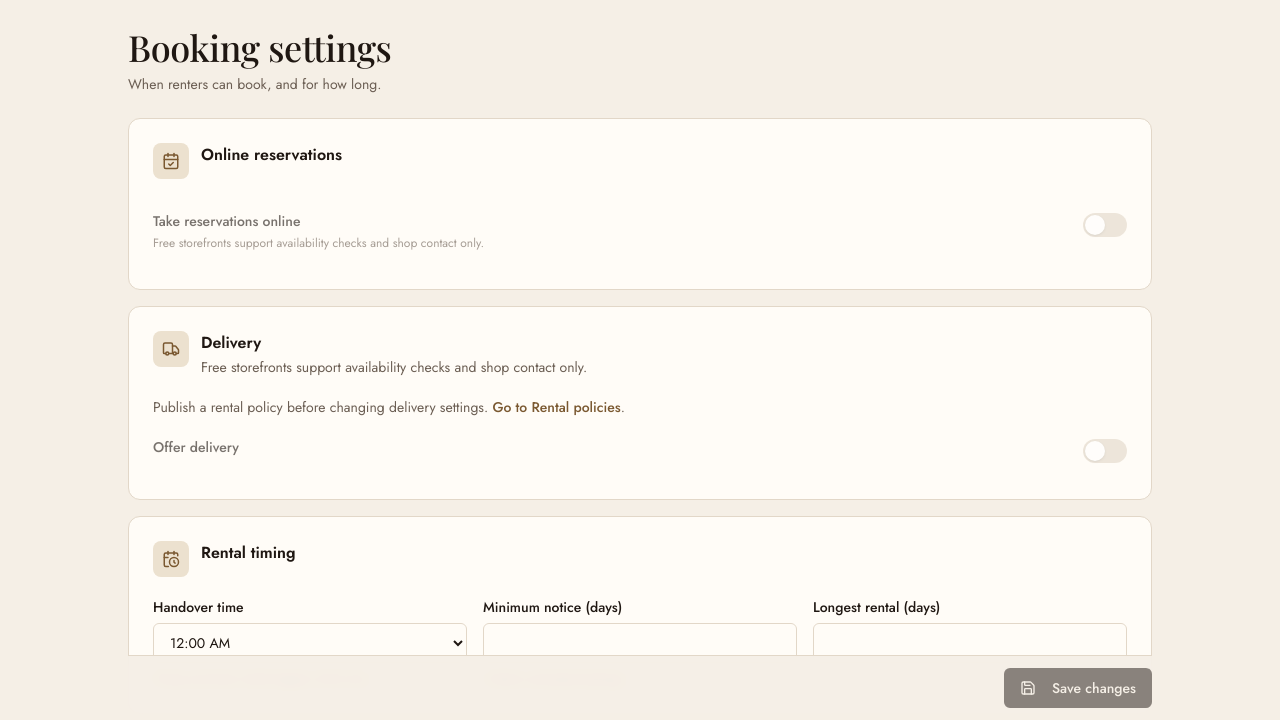
Scenario: Free storefront feature gates › opens upgrade prompts for online reservations and fittings
The image size is (1280, 720).
Click the switch labelled "Take reservations online". click: (227, 221)
box: top-left (153, 199), bottom-right (1127, 265)
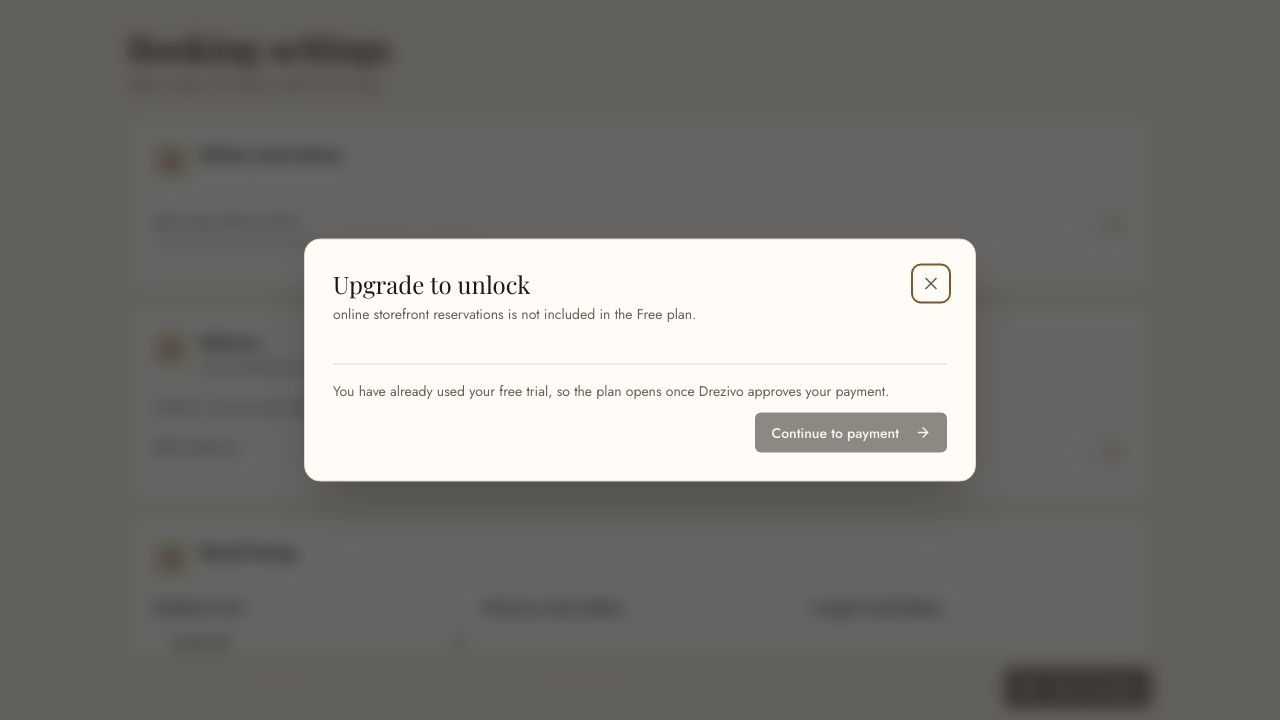
expect the heading "Upgrade to unlock" is shown: met, box top-left (333, 268), bottom-right (530, 300)
Click the button named "Close". click: (931, 284)
box: top-left (915, 268), bottom-right (947, 300)
(page scrolled)
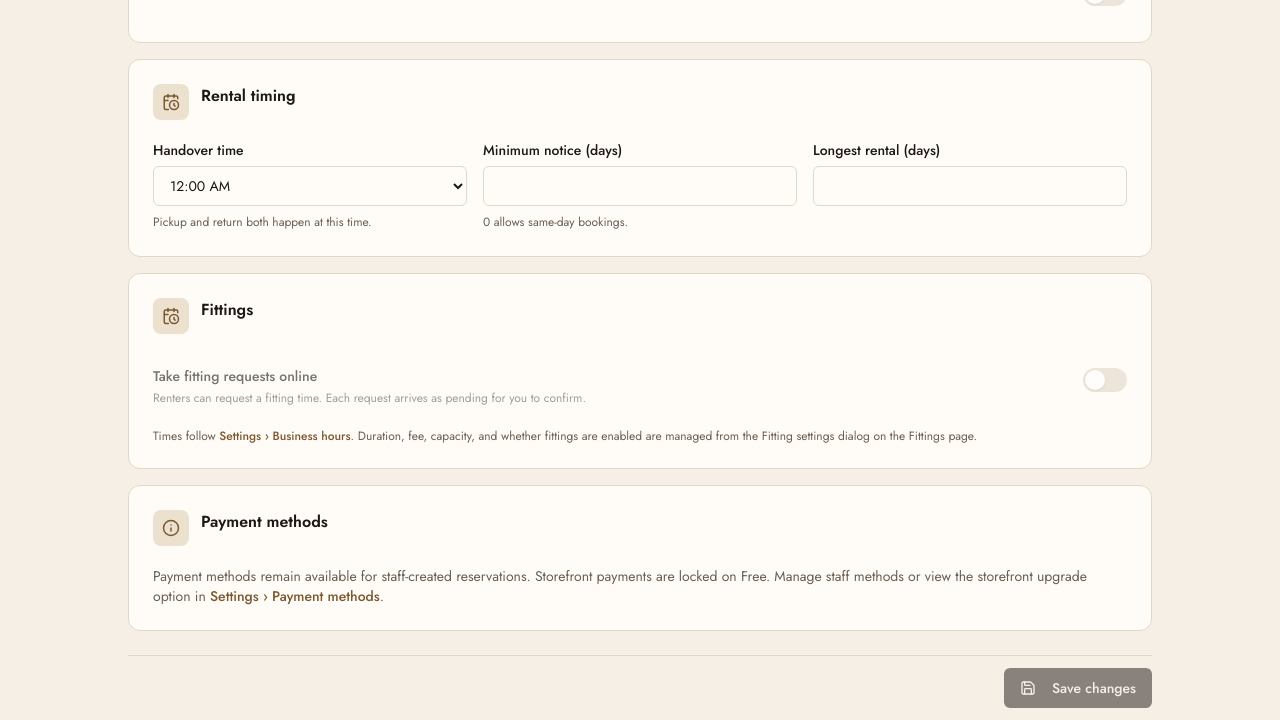
Click the switch labelled "Take fitting requests online". click: (235, 376)
box: top-left (153, 354), bottom-right (1127, 420)
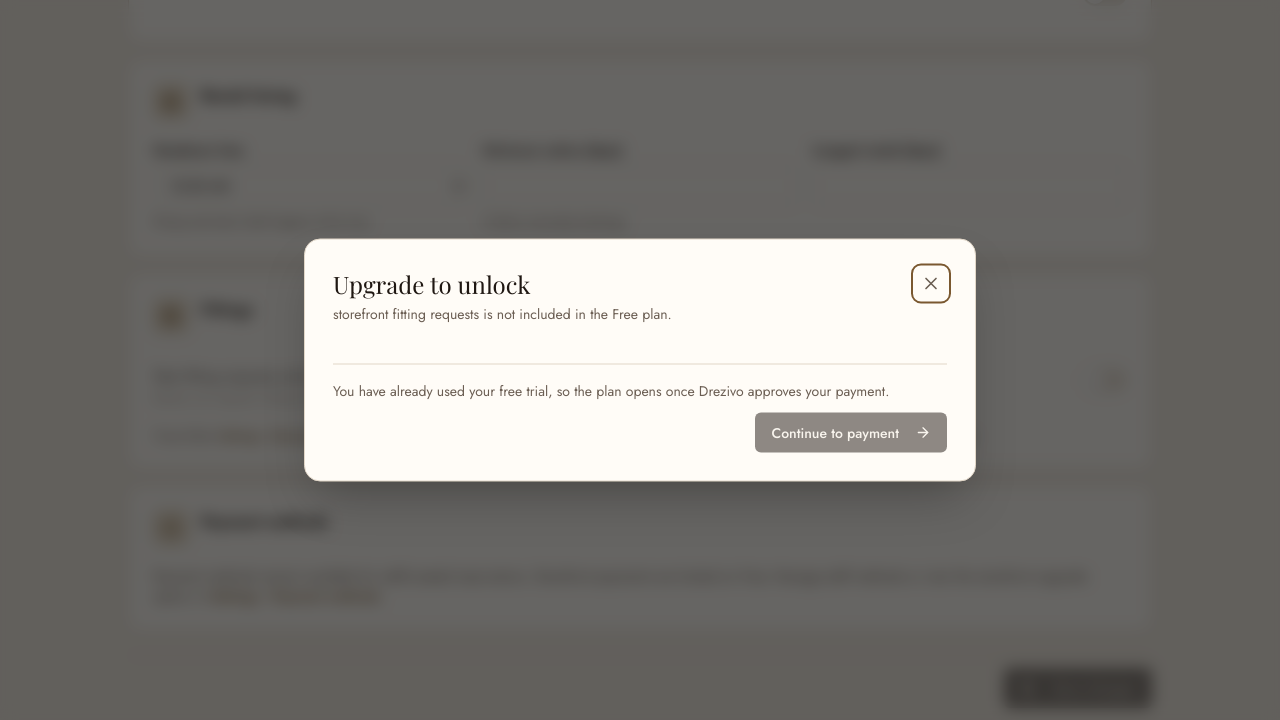
expect the heading "Upgrade to unlock" is shown: met, box top-left (333, 268), bottom-right (530, 300)
